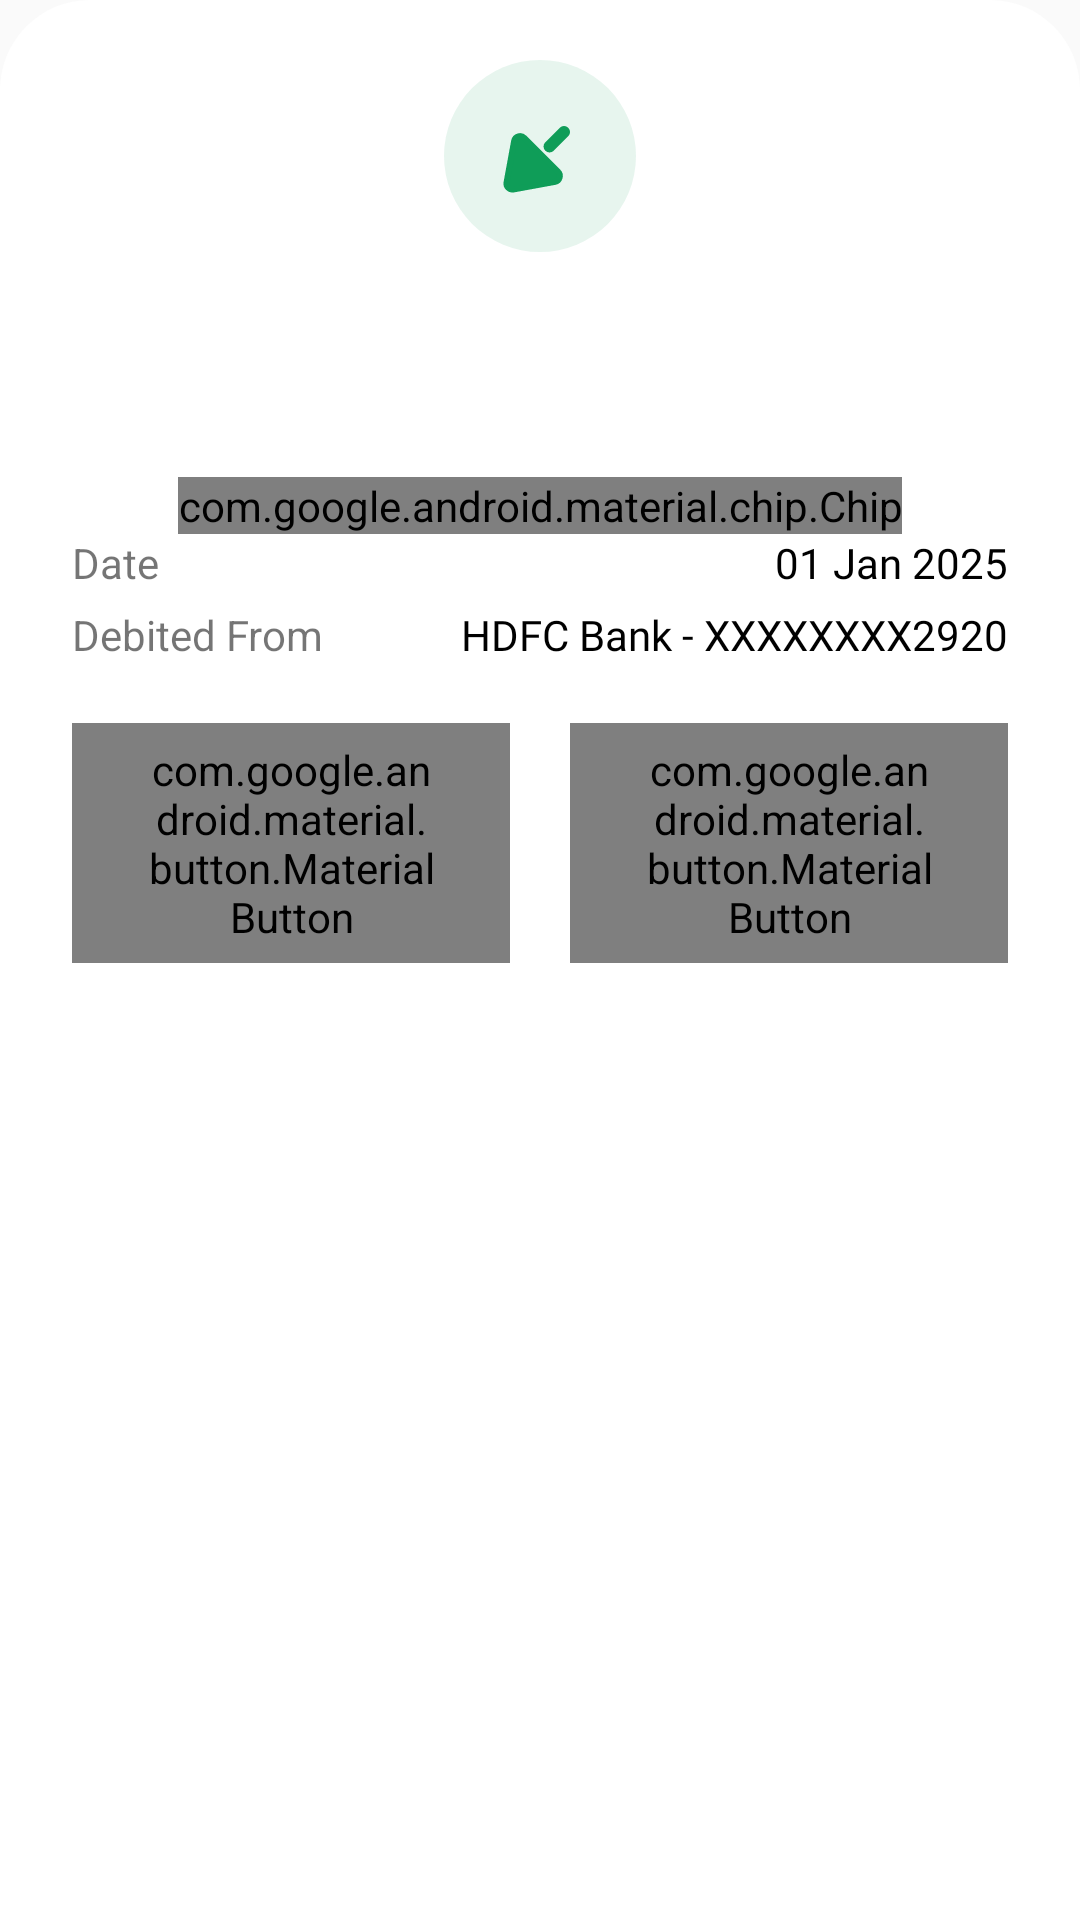

Named icons in this screenshot (1080w x 1920h) and their bounding boxes, (x1, y1, x2, y2):
income: (503, 126, 570, 193)
